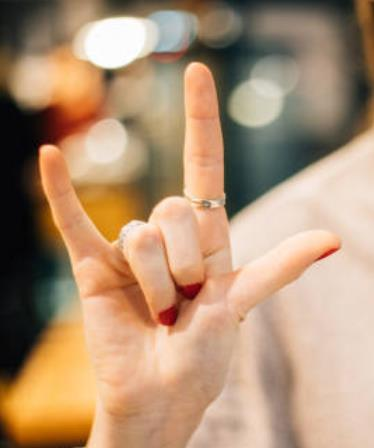back: (35, 56, 345, 400)
